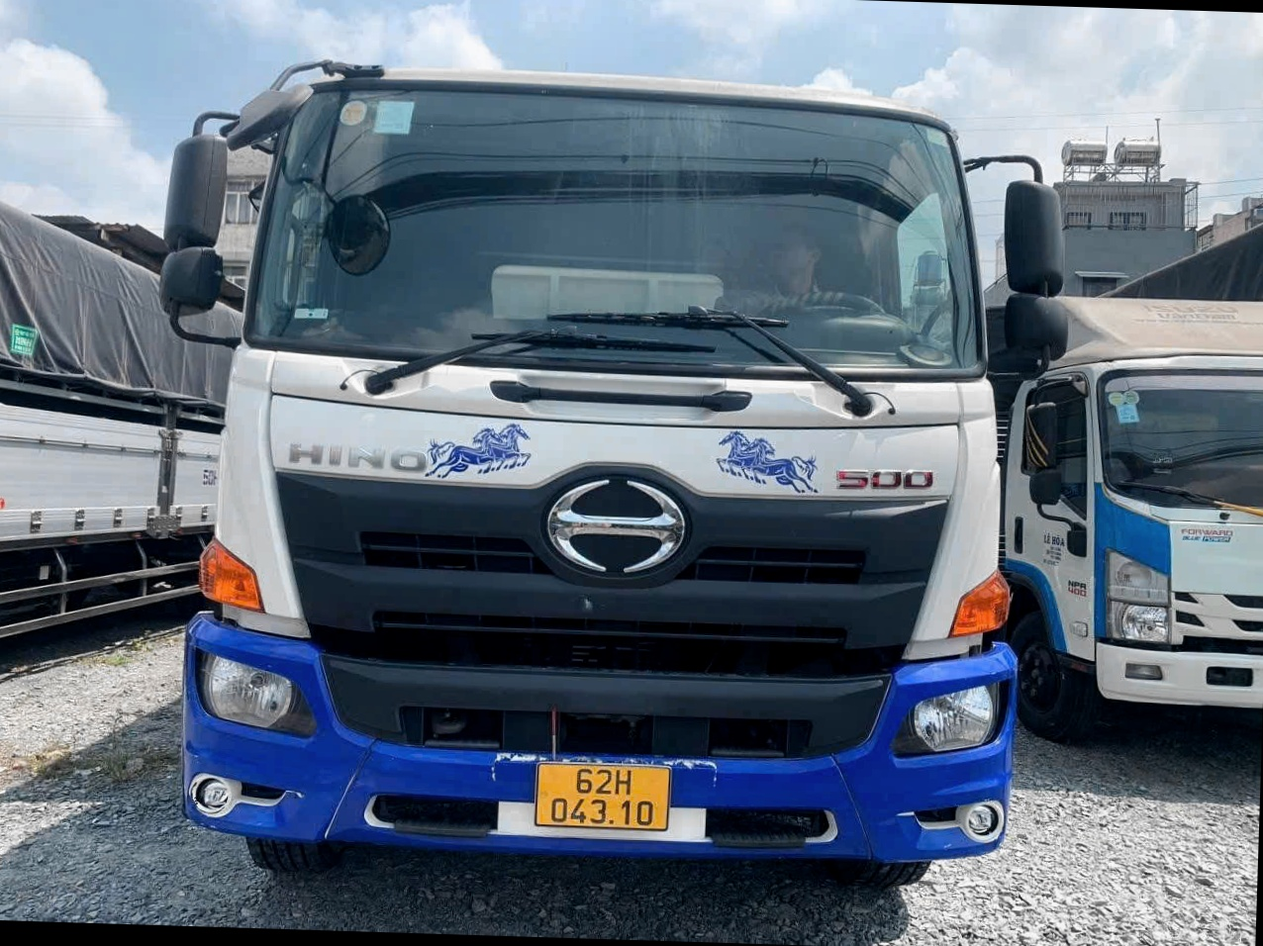Bien-so: (593, 781, 719, 856)
